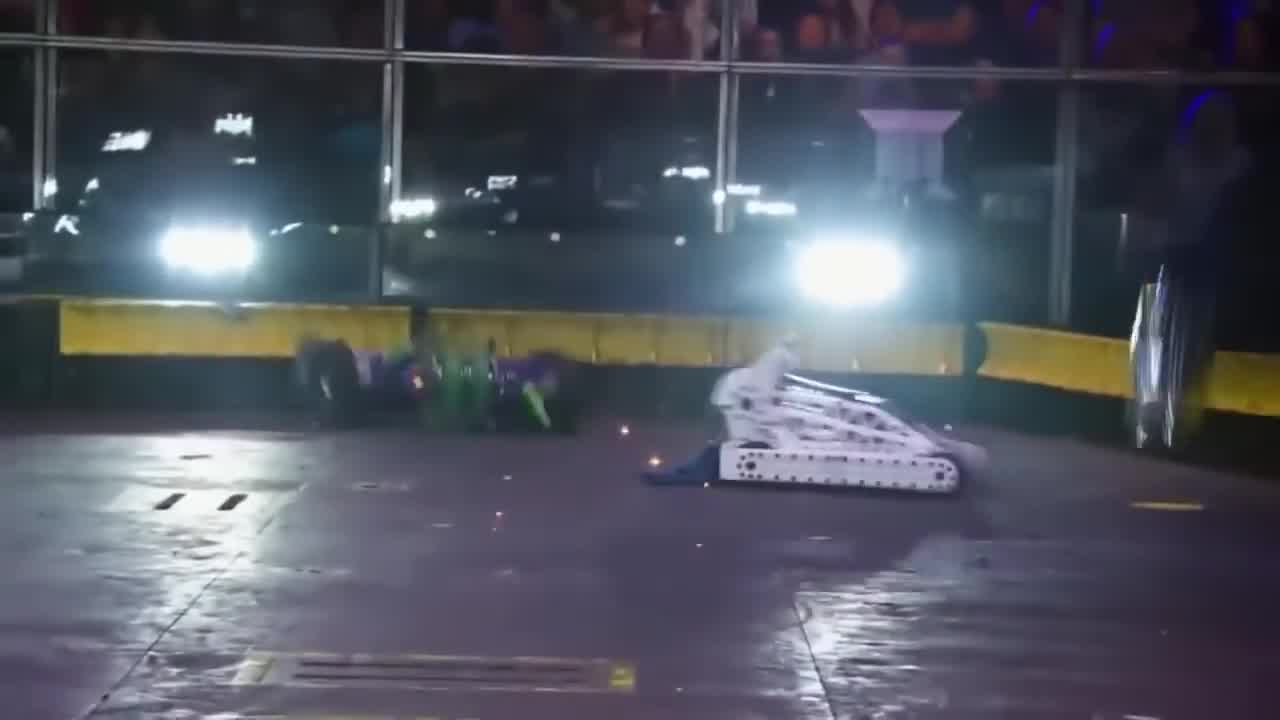combatbot: (647, 331, 989, 506), (294, 329, 589, 435)
